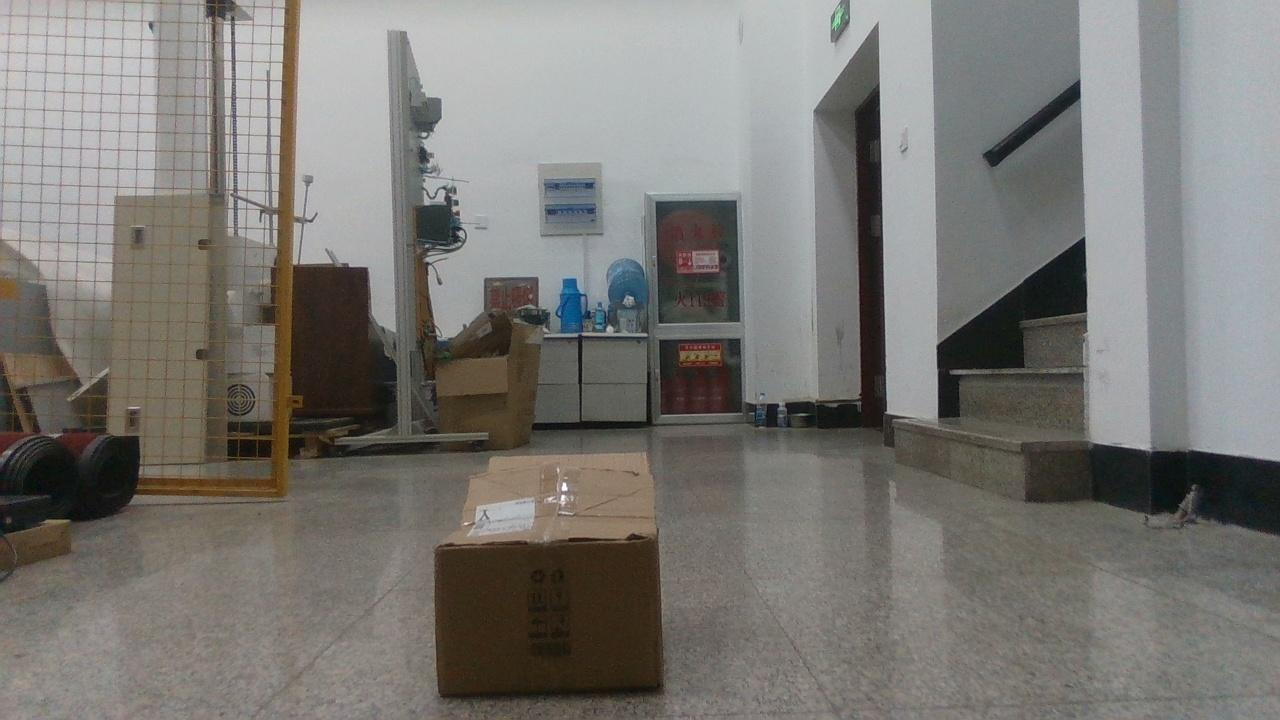box: (435, 452, 662, 695)
